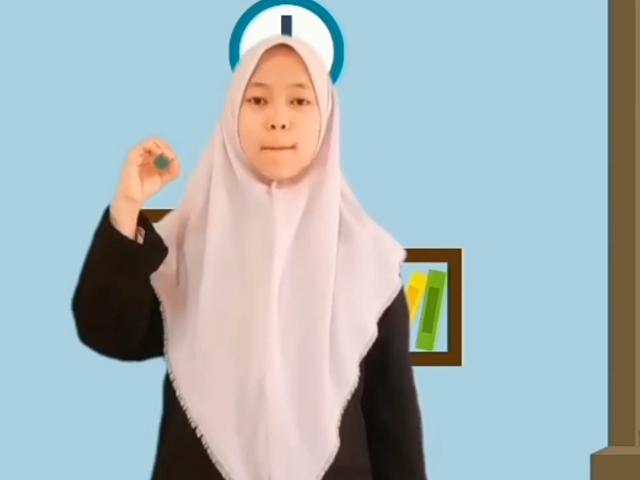O: (118, 131, 184, 207)
